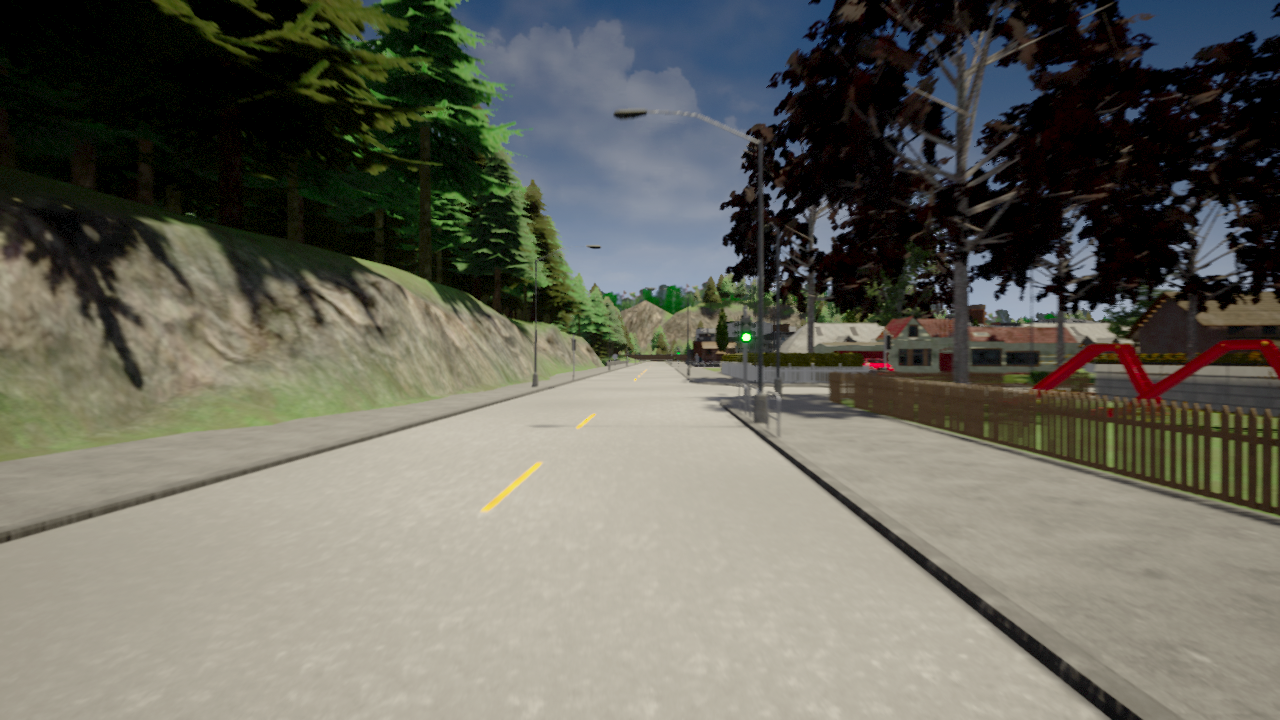green: (740, 315, 753, 344)
